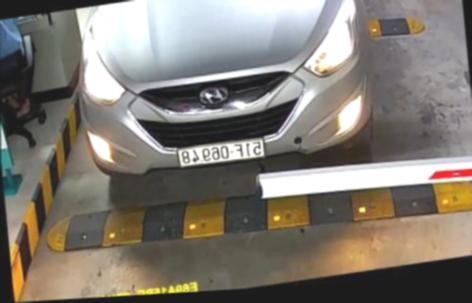License_Plate: (175, 135, 270, 173)
